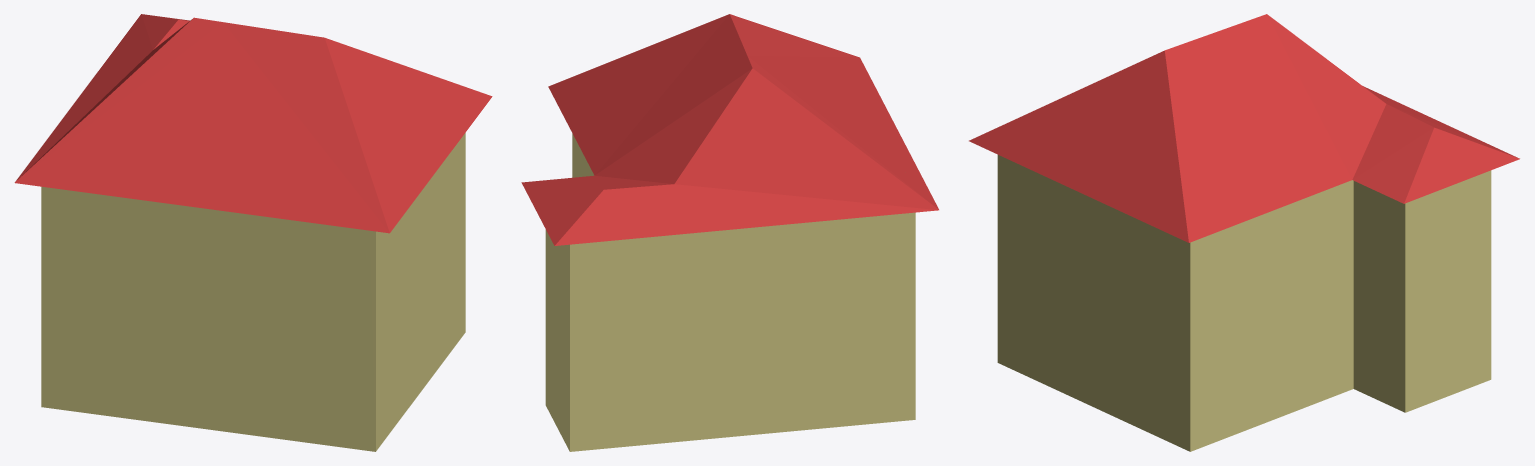
3 views of the same model, side by side, from view 1: azimuth 30°, elevation 25°; view 2: azimuth 150°, elevation 25°; view 3: azimuth 270°, elevation 25° (orthographic). The views are drawn at different scales.
Visible parts, largest first — view 1: group_5, group_3, group_4; view 2: group_5, group_3, group_4; view 3: group_5, group_3, group_4.
Boxes of the visible parts, bbox=[...] form: group_5: bbox=[41, 133, 465, 451]; group_3: bbox=[15, 14, 462, 233]; group_4: bbox=[14, 15, 492, 232]; group_5: bbox=[545, 133, 915, 451]; group_3: bbox=[521, 14, 938, 245]; group_4: bbox=[522, 50, 938, 245]; group_5: bbox=[997, 155, 1491, 451]; group_3: bbox=[1003, 14, 1517, 242]; group_4: bbox=[969, 86, 1519, 242].
Bounding box in the file's own units: 18.02 × 20.02 × 13.17.
